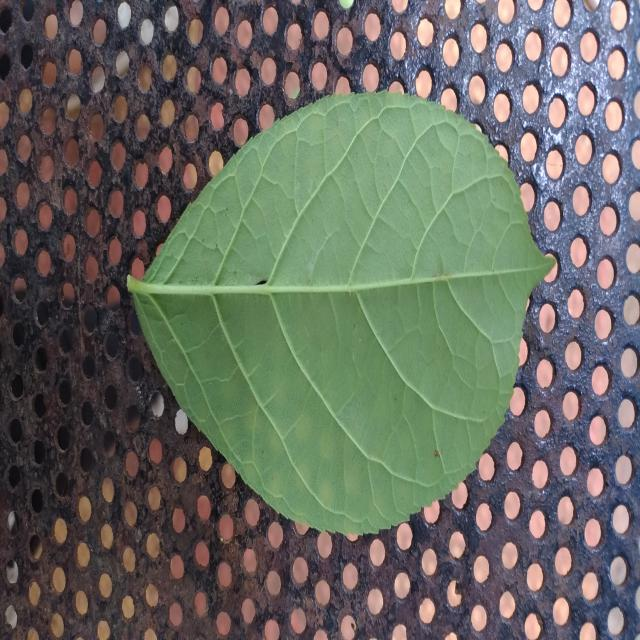padri: (128, 91, 555, 536)
